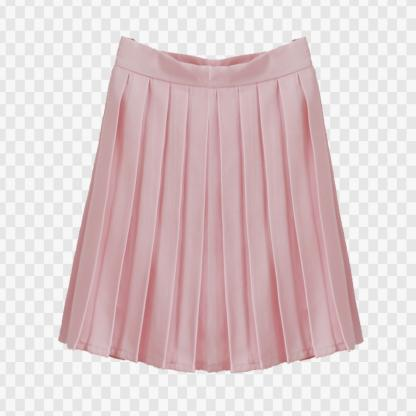jacket: (53, 29, 364, 380)
